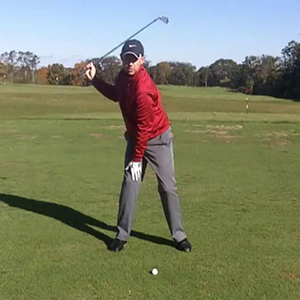person: (82, 38, 198, 254)
